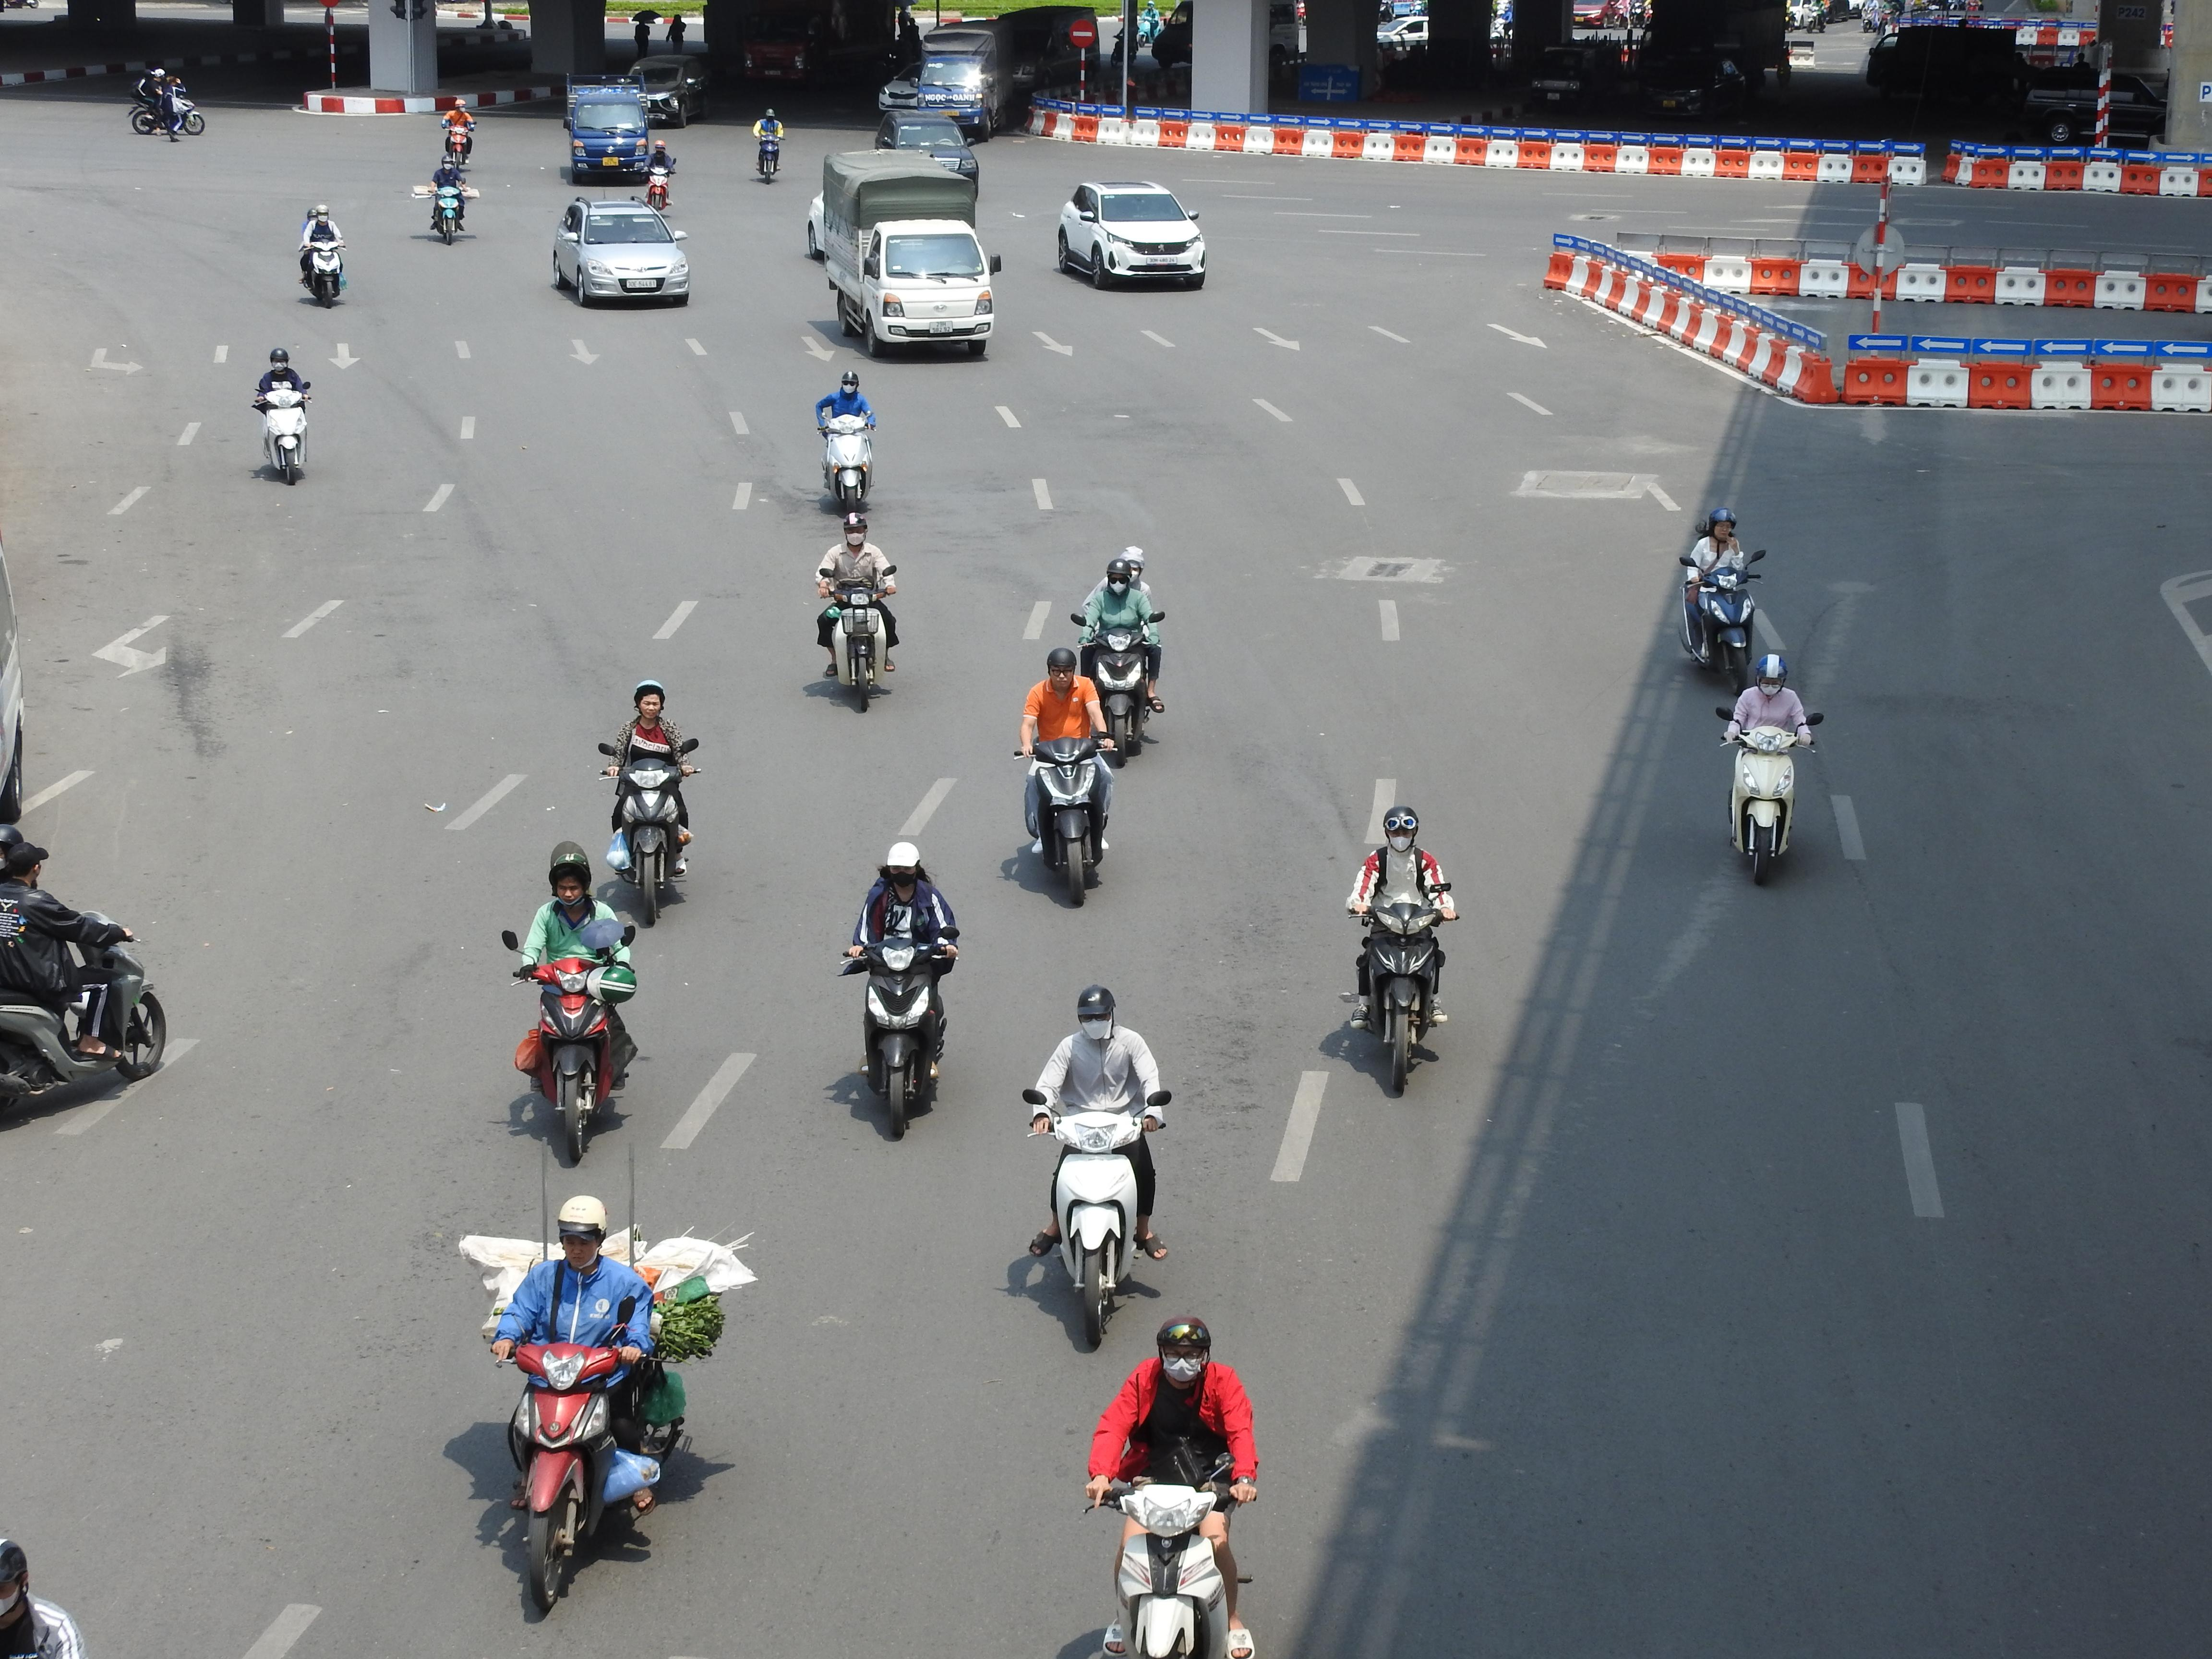BSD: (627, 279, 657, 288), (1146, 256, 1177, 263)
BSV: (930, 321, 953, 333)
car: (1055, 181, 1207, 291), (550, 199, 691, 308), (561, 85, 660, 185)
motorbike: (474, 1194, 732, 1624), (1089, 1316, 1259, 1659), (1022, 983, 1169, 1354), (0, 824, 167, 1145), (507, 840, 639, 1168), (841, 838, 958, 1140), (1346, 805, 1456, 1098), (1015, 645, 1115, 910), (599, 680, 700, 929), (1721, 650, 1818, 889), (1073, 547, 1165, 762), (815, 512, 899, 713), (1679, 507, 1764, 688), (817, 369, 876, 518), (254, 345, 312, 486), (129, 63, 204, 138), (300, 202, 347, 307), (427, 148, 470, 244), (441, 96, 477, 171), (643, 136, 676, 213), (752, 108, 784, 183)
truck: (812, 146, 1001, 361)
